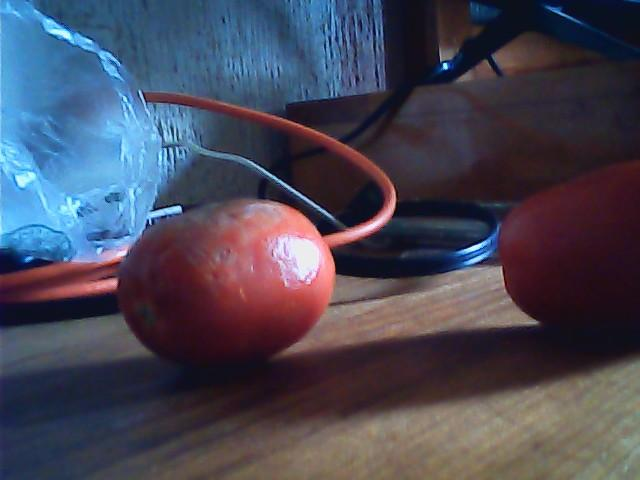defectuoso: (118, 192, 334, 367)
